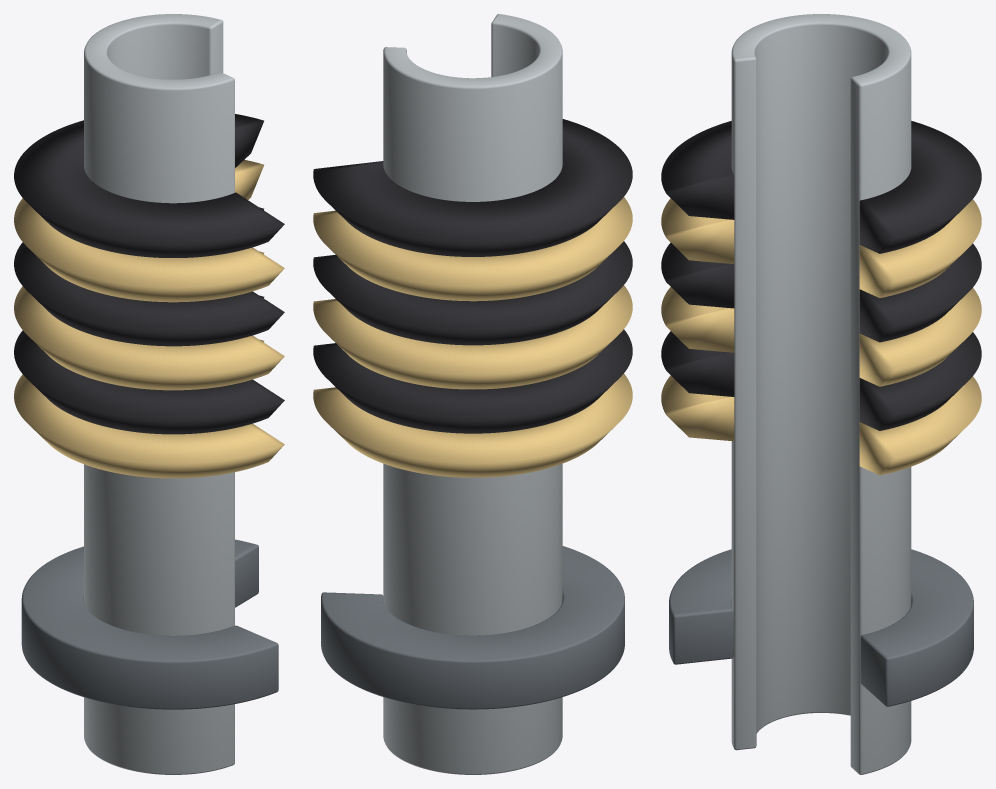
Rendered from seal-assembly.glb.
3 renders of one model, left to right at view 1: azimuth 30°, elevation 25°; view 2: azimuth 150°, elevation 25°; view 3: azimuth 270°, elevation 25°, orthographic.
Visible parts, largest first — view 1: Seal mandrel, Locator shoulder, Chevron 0, Chevron 1, Chevron 2, Chevron 4, Chevron 3, Chevron 5; view 2: Seal mandrel, Locator shoulder, Chevron 0, Chevron 2, Chevron 3, Chevron 5, Chevron 4, Chevron 1; view 3: Seal mandrel, Locator shoulder, Chevron 0, Chevron 4, Chevron 5, Chevron 1, Chevron 2, Chevron 3.
Boxes of the visible parts, <box> form: Seal mandrel: <box>84,14,234,774</box>; Locator shoulder: <box>21,539,278,709</box>; Chevron 0: <box>14,114,284,257</box>; Chevron 1: <box>14,159,284,302</box>; Chevron 2: <box>14,207,284,346</box>; Chevron 4: <box>14,295,284,434</box>; Chevron 3: <box>14,251,284,390</box>; Chevron 5: <box>14,339,284,478</box>; Seal mandrel: <box>383,14,562,774</box>; Locator shoulder: <box>321,546,624,709</box>; Chevron 0: <box>313,119,632,256</box>; Chevron 2: <box>313,241,632,345</box>; Chevron 3: <box>313,285,632,389</box>; Chevron 5: <box>313,374,632,477</box>; Chevron 4: <box>313,329,632,433</box>; Chevron 1: <box>313,197,632,301</box>; Seal mandrel: <box>731,14,911,774</box>; Locator shoulder: <box>669,549,973,706</box>; Chevron 0: <box>661,121,981,253</box>; Chevron 4: <box>661,331,981,430</box>; Chevron 5: <box>661,375,981,475</box>; Chevron 1: <box>661,198,981,297</box>; Chevron 2: <box>661,242,981,342</box>; Chevron 3: <box>661,287,981,386</box>.
Size of the model in its own units: 1.56 by 3.9 by 1.64.
